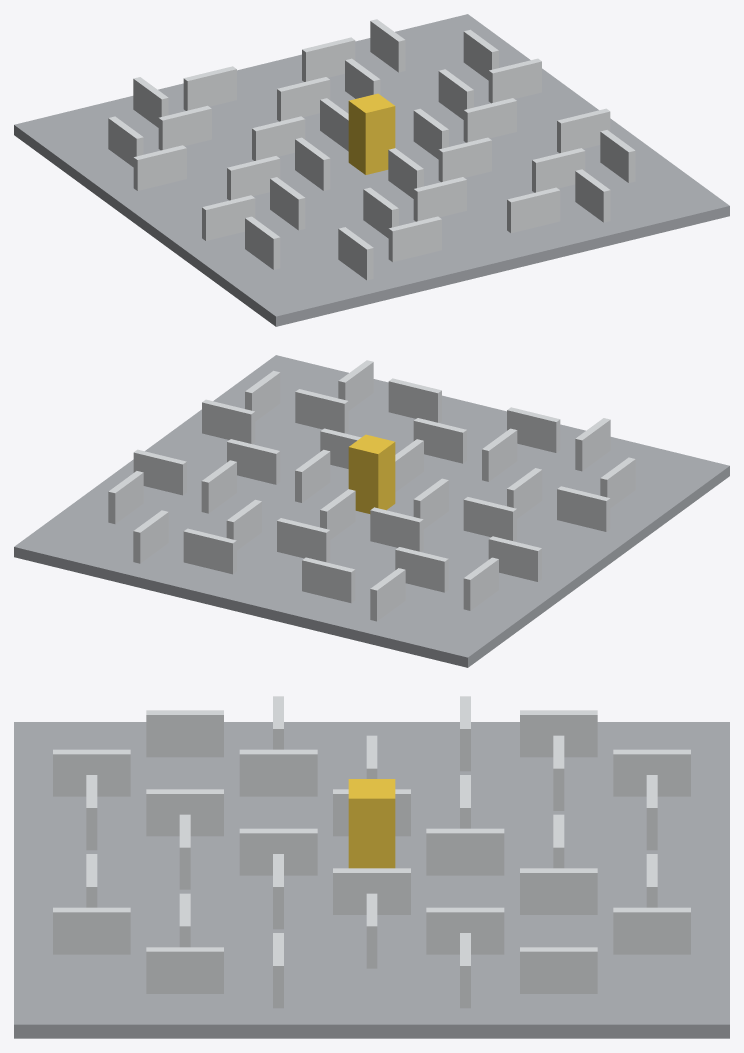
File: gpt-labirinto-de-concreto.glb
3 views of the same model, one above another, from view 1: azimuth 30°, elevation 25°; view 2: azimuth 150°, elevation 25°; view 3: azimuth 270°, elevation 25° (orthographic). The views are drawn at different scales.
Parts seen in each view (by area): view 1: Labirinto de Concreto-000, Labirinto de Concreto-033, Labirinto de Concreto-014, Labirinto de Concreto-002, Labirinto de Concreto-023, Labirinto de Concreto-006, Labirinto de Concreto-018, Labirinto de Concreto-022, Labirinto de Concreto-010, Labirinto de Concreto-026, Labirinto de Concreto-030, Labirinto de Concreto-003 (+22 smaller); view 2: Labirinto de Concreto-000, Labirinto de Concreto-033, Labirinto de Concreto-010, Labirinto de Concreto-003, Labirinto de Concreto-019, Labirinto de Concreto-015, Labirinto de Concreto-011, Labirinto de Concreto-023, Labirinto de Concreto-031, Labirinto de Concreto-007, Labirinto de Concreto-027, Labirinto de Concreto-030 (+22 smaller); view 3: Labirinto de Concreto-000, Labirinto de Concreto-033, Labirinto de Concreto-008, Labirinto de Concreto-016, Labirinto de Concreto-004, Labirinto de Concreto-024, Labirinto de Concreto-028, Labirinto de Concreto-020, Labirinto de Concreto-029, Labirinto de Concreto-032, Labirinto de Concreto-017, Labirinto de Concreto-025 (+21 smaller).
Part boxes in pixels (x1,y1,x2,y2): Labirinto de Concreto-000: (14, 14, 729, 326); Labirinto de Concreto-033: (348, 93, 395, 174); Labirinto de Concreto-014: (388, 216, 441, 262); Labirinto de Concreto-002: (133, 145, 186, 190); Labirinto de Concreto-023: (507, 187, 560, 233); Labirinto de Concreto-006: (158, 105, 211, 150); Labirinto de Concreto-018: (413, 177, 466, 221); Labirinto de Concreto-022: (438, 137, 491, 182); Labirinto de Concreto-010: (183, 66, 236, 110); Labirinto de Concreto-026: (463, 98, 516, 142); Labirinto de Concreto-030: (488, 58, 541, 103); Labirinto de Concreto-003: (202, 195, 255, 240); Labirinto de Concreto-000: (14, 355, 729, 667); Labirinto de Concreto-033: (348, 434, 395, 513); Labirinto de Concreto-010: (302, 557, 355, 603); Labirinto de Concreto-003: (557, 486, 610, 531); Labirinto de Concreto-019: (183, 528, 236, 574); Labirinto de Concreto-015: (277, 518, 330, 562); Labirinto de Concreto-011: (370, 507, 423, 551); Labirinto de Concreto-023: (388, 378, 441, 422); Labirinto de Concreto-031: (202, 399, 255, 444); Labirinto de Concreto-007: (463, 497, 516, 541); Labirinto de Concreto-027: (295, 389, 348, 433); Labirinto de Concreto-030: (133, 449, 186, 495); Labirinto de Concreto-000: (14, 722, 729, 1038); Labirinto de Concreto-033: (348, 779, 395, 868); Labirinto de Concreto-008: (239, 749, 317, 796); Labirinto de Concreto-016: (426, 828, 504, 875); Labirinto de Concreto-004: (146, 710, 223, 757); Labirinto de Concreto-024: (613, 907, 690, 954); Labirinto de Concreto-028: (53, 907, 130, 954); Labirinto de Concreto-020: (520, 868, 597, 914); Labirinto de Concreto-029: (520, 947, 597, 993); Labirinto de Concreto-032: (146, 947, 223, 993); Labirinto de Concreto-017: (239, 828, 317, 875); Labirinto de Concreto-025: (426, 907, 504, 954).
Size of the model in its own units: 46 by 7 by 46.
